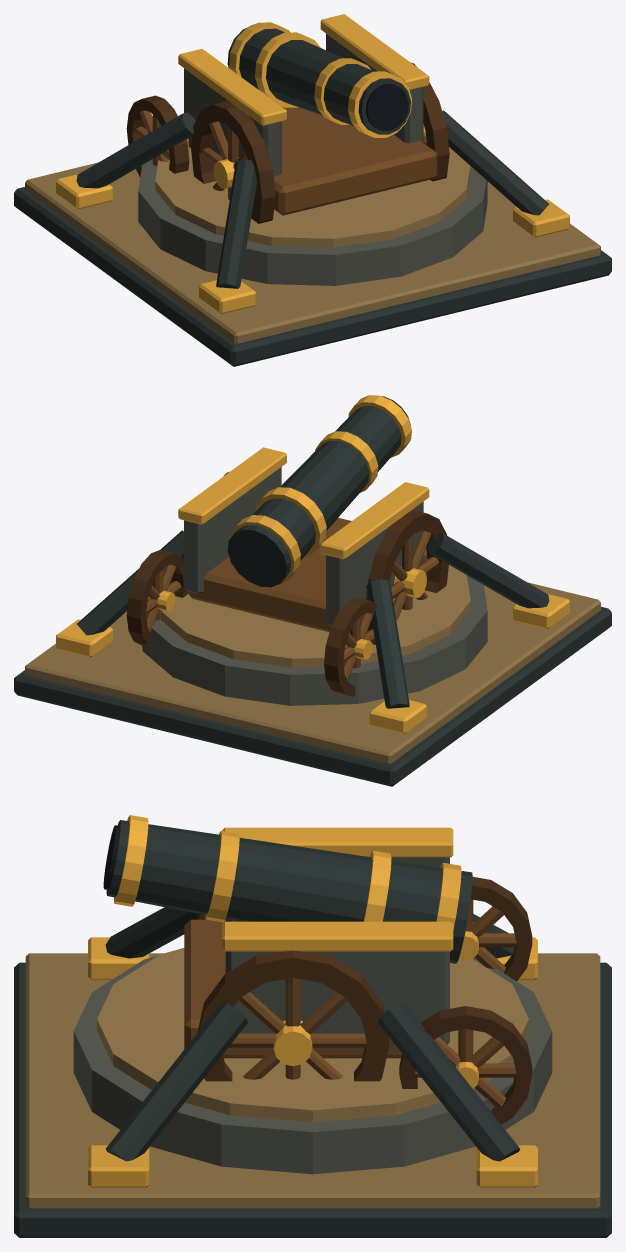
The picture shows the model from 3 angles, top to bottom: view 1: azimuth 30°, elevation 25°; view 2: azimuth 150°, elevation 25°; view 3: azimuth 270°, elevation 25°; orthographic projection. The views are drawn at different scales.
Parts seen in each view (by area): view 1: cannon_level4_structure, cannon_level4_metal; view 2: cannon_level4_structure, cannon_level4_metal; view 3: cannon_level4_structure, cannon_level4_metal.
Boxes of the visible parts, left/top/right/bottom form: cannon_level4_structure: left=14, top=24, right=611, bottom=366; cannon_level4_metal: left=56, top=14, right=569, bottom=313; cannon_level4_structure: left=14, top=396, right=611, bottom=786; cannon_level4_metal: left=56, top=395, right=569, bottom=733; cannon_level4_structure: left=14, top=820, right=611, bottom=1237; cannon_level4_metal: left=88, top=815, right=537, bottom=1187.
Size of the model in its own units: 3.6 by 1.96 by 3.6.
